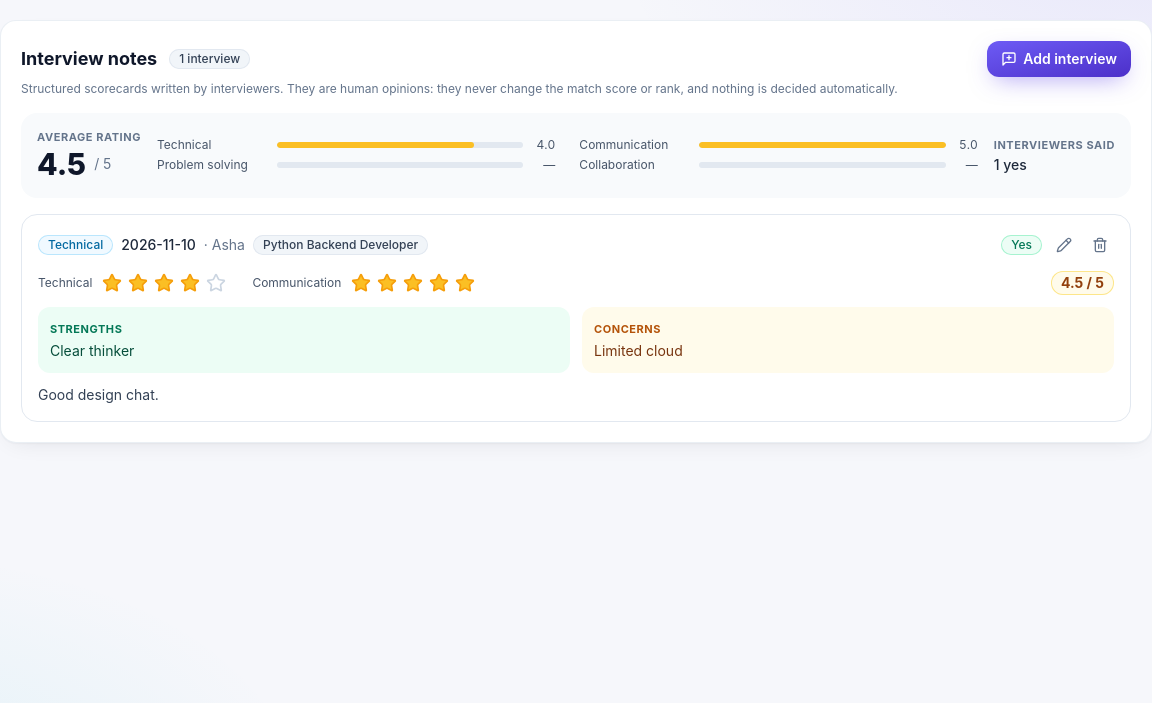
Test case: InterviewNotes › edits an existing note with a PATCH and deletes only after confirmation
Later steps or results of the test are not shown.
Click the button named "Edit Technical interview note" at coordinates (1064, 244), box [1050,230,1078,258]
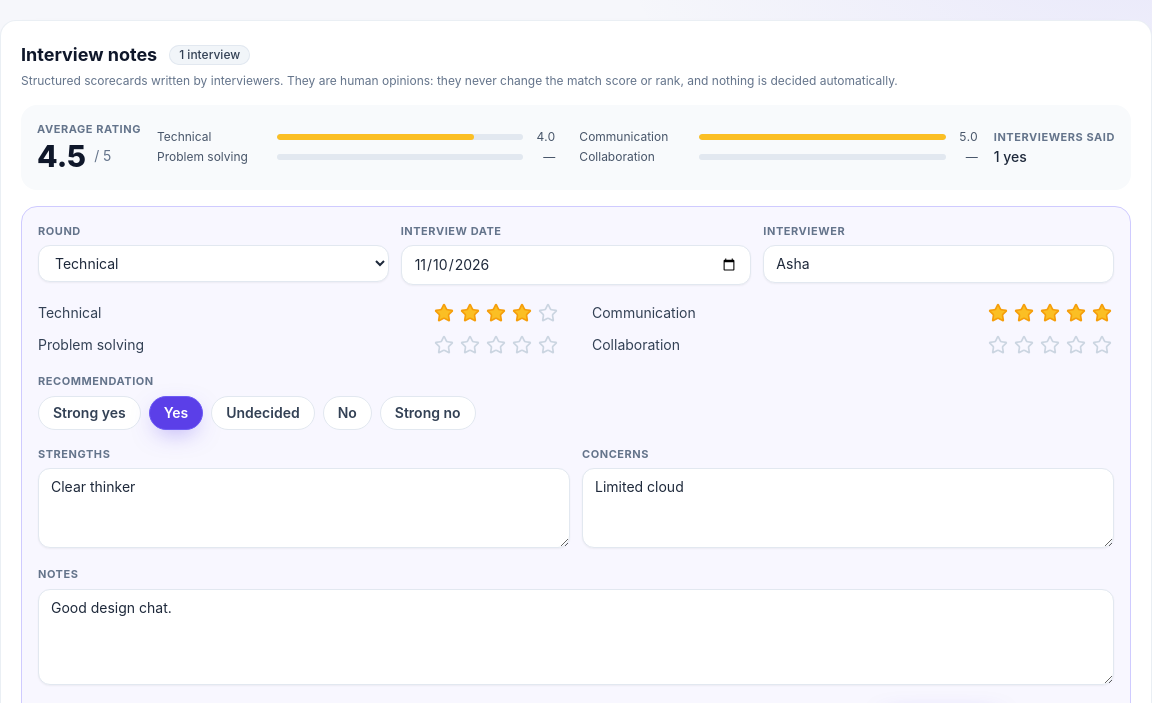
Result: the field labelled "Interviewer" holds "Asha" at [763,245,1114,283]
